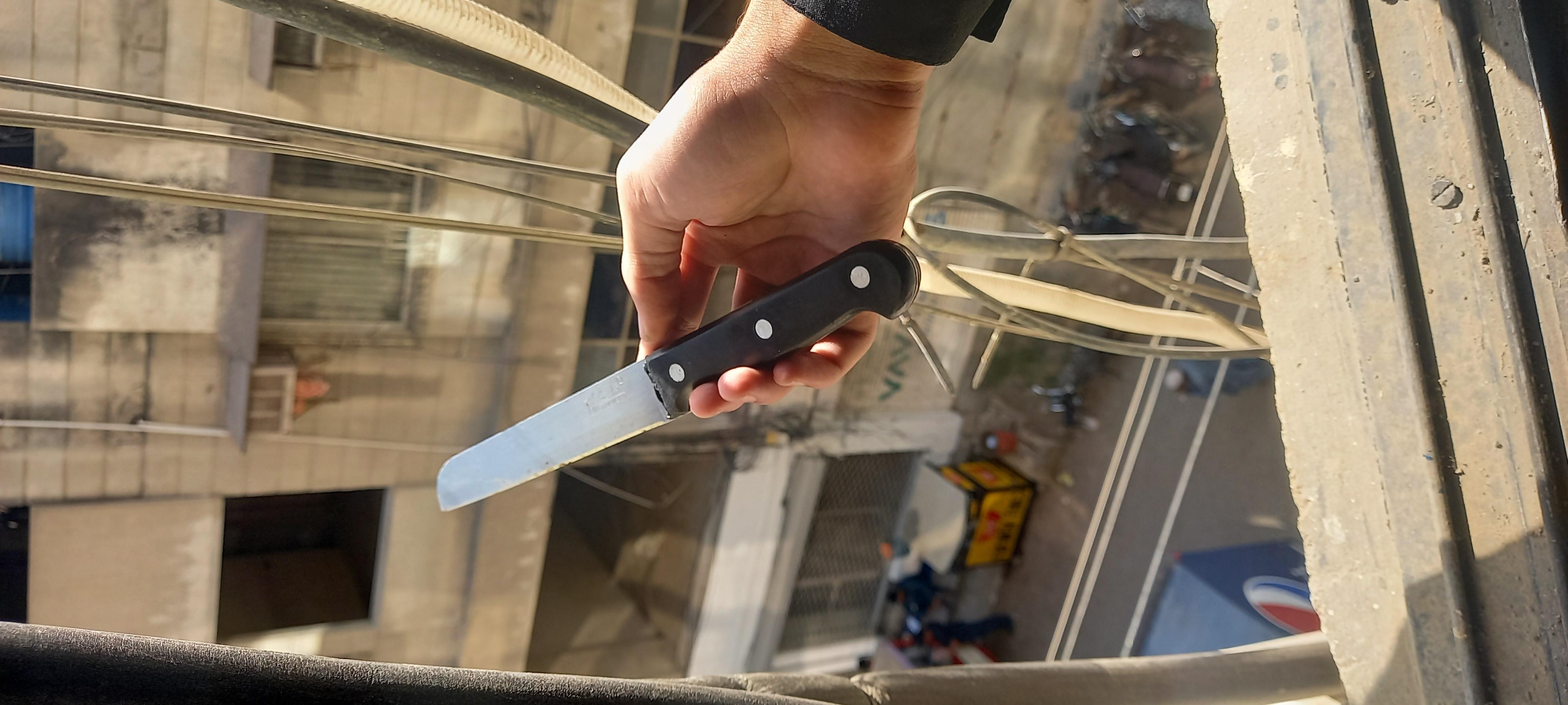knives: (386, 185, 1049, 422)
